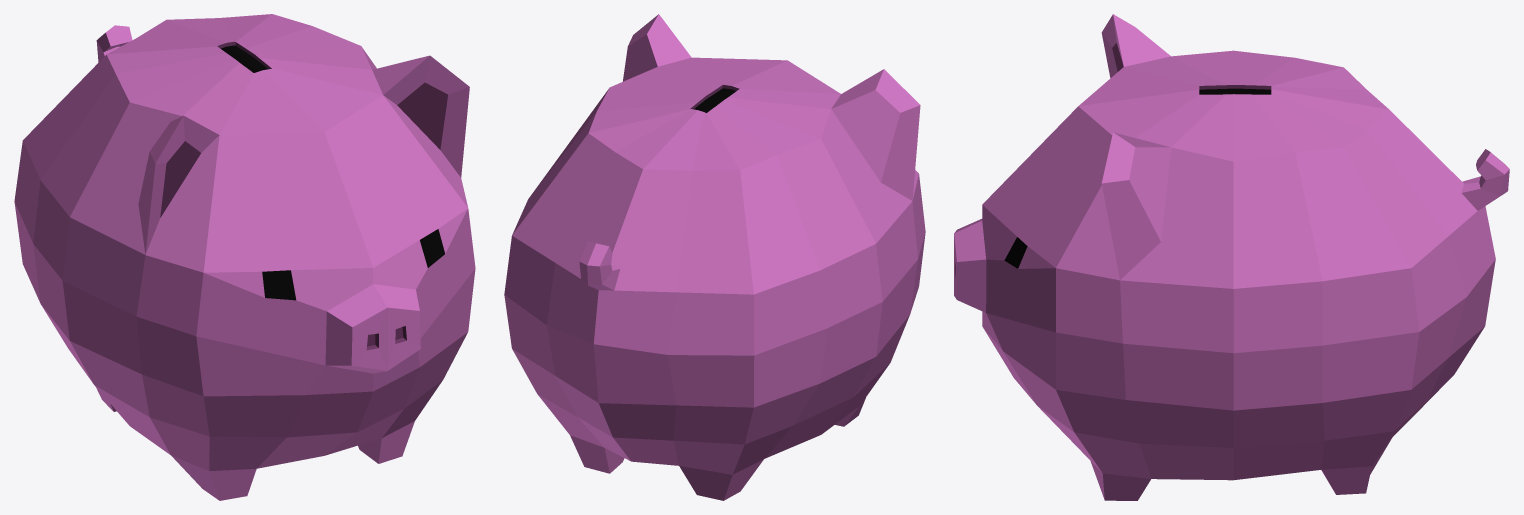
Rendered from piggybank.obj.
The picture shows the model from 3 angles, left to right: view 1: azimuth 30°, elevation 25°; view 2: azimuth 150°, elevation 25°; view 3: azimuth 270°, elevation 25°; orthographic projection. The views are drawn at different scales.
Parts seen in each view (by area): view 1: Sphere; view 2: Sphere; view 3: Sphere.
Part boxes in pixels (left/top/right/bottom): Sphere: left=14, top=14, right=475, bottom=500; Sphere: left=504, top=14, right=925, bottom=500; Sphere: left=954, top=14, right=1509, bottom=500.
Bounding box in the file's own units: 0.7108 × 0.7241 × 0.9504.
